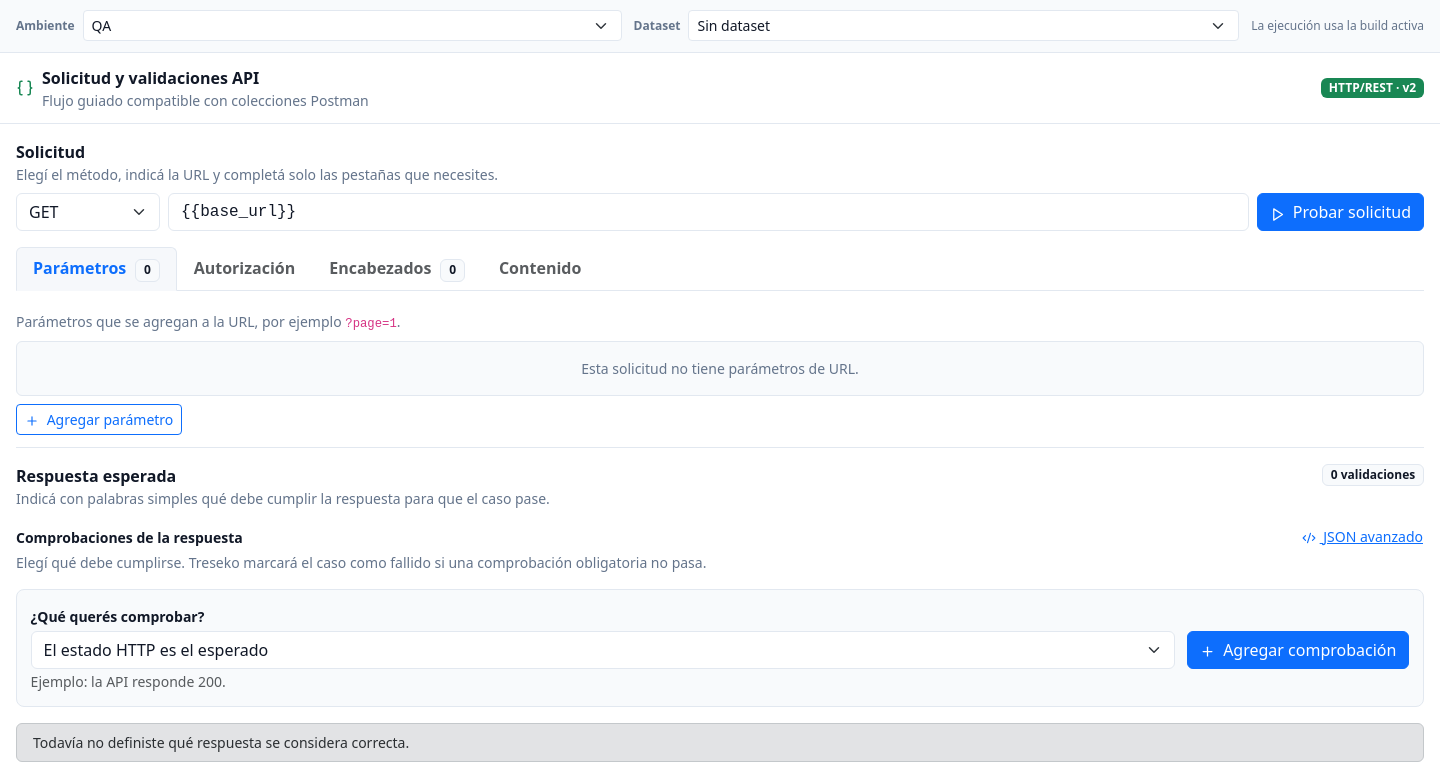
CaseApiCard › muestra el resumen visible y separa respuesta y validaciones en el modal
Select "QA" in the dropdown labelled "Ambiente" at (352, 26), box [83,10,622,41]
Click the button "Probar solicitud" at (1340, 212), box [1257,193,1424,231]
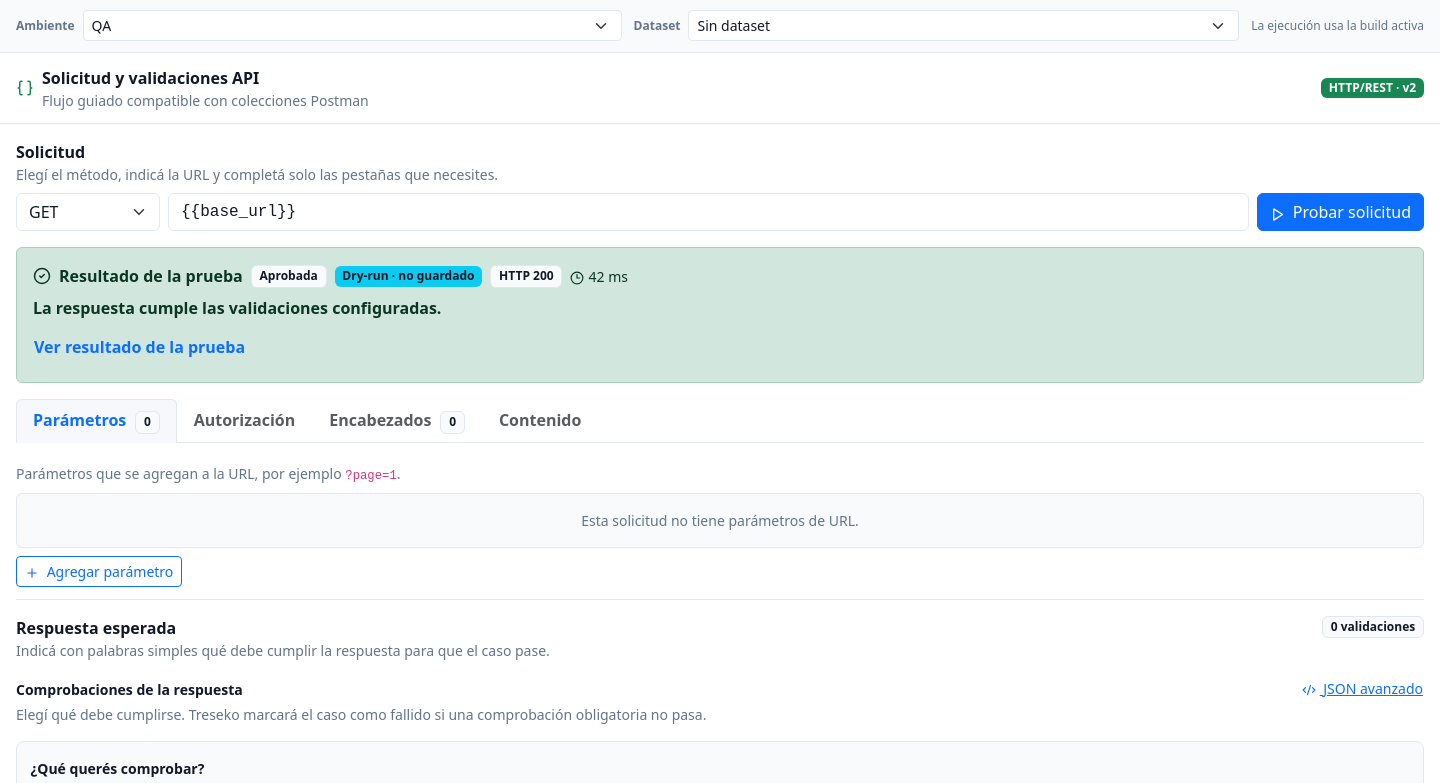
expect the text "Resultado de la prueba" is shown: met, box [59,264,243,288]
expect the text "HTTP 200" is shown: met, box [490,265,562,288]
Click the button "Ver resultado de la prueba" at (140, 347), box [33,328,246,366]
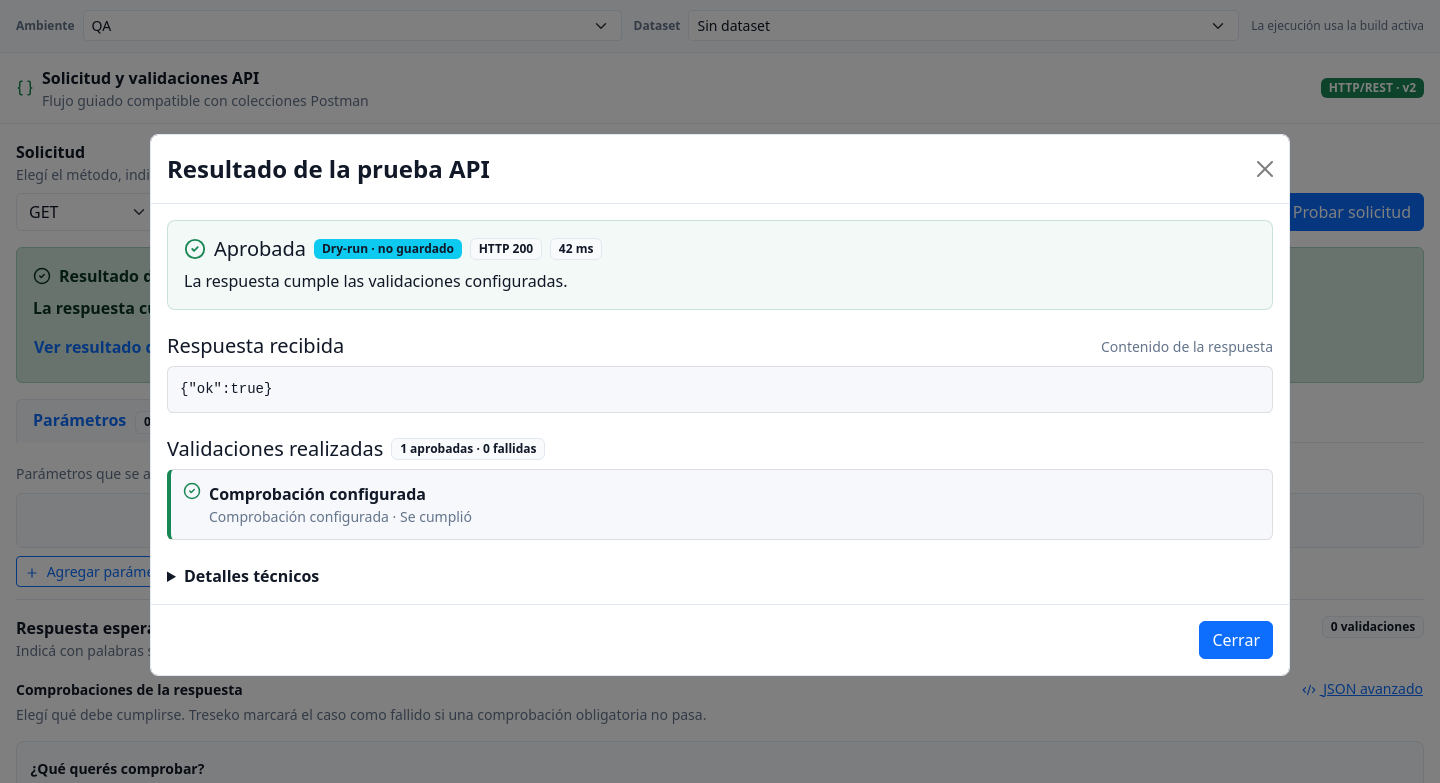
expect the text "Resultado de la prueba API" is shown: met, box [167,151,490,187]
expect the heading "Respuesta recibida" is shown: met, box [167,334,344,358]
expect the heading "Validaciones realizadas" is shown: met, box [167,437,383,461]
